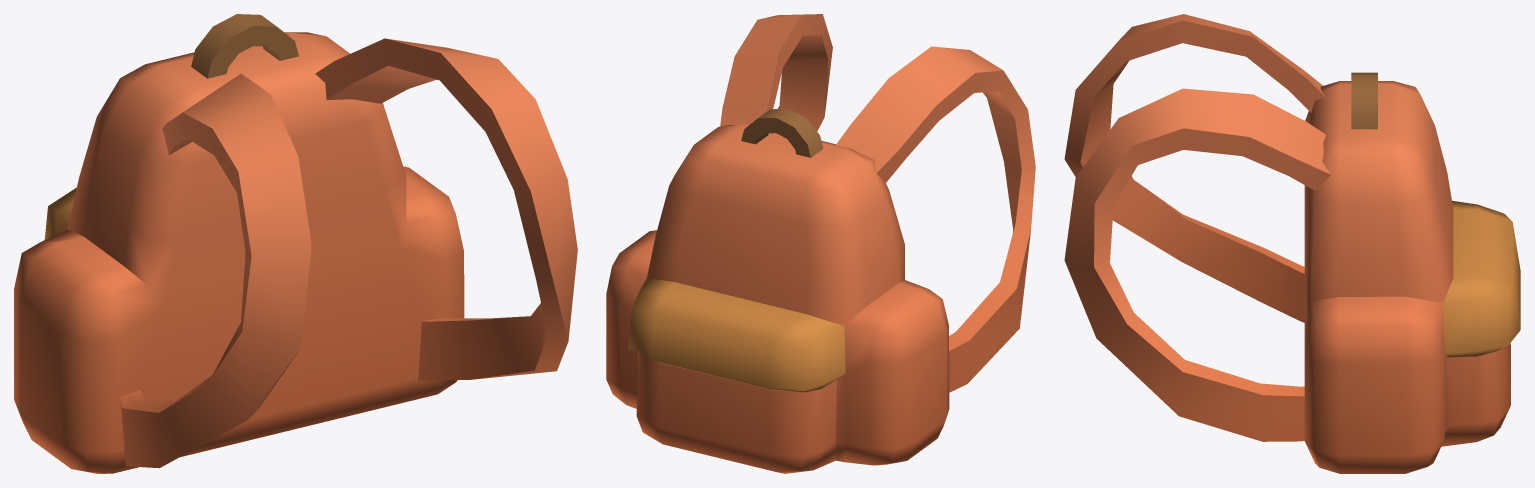
File: Bag_3.fbx
3 renders of one model, left to right at view 1: azimuth 30°, elevation 25°; view 2: azimuth 150°, elevation 25°; view 3: azimuth 270°, elevation 25°, orthographic. The views are drawn at different scales.
Visible parts, largest first — view 1: Bag_3; view 2: Bag_3; view 3: Bag_3.
Boxes of the visible parts, x1=… form: Bag_3: x1=14, y1=14, x2=577, y2=473; Bag_3: x1=606, y1=14, x2=1035, y2=473; Bag_3: x1=1064, y1=14, x2=1520, y2=473.
Size of the model in its own units: 46.01 by 47.36 by 55.41.
